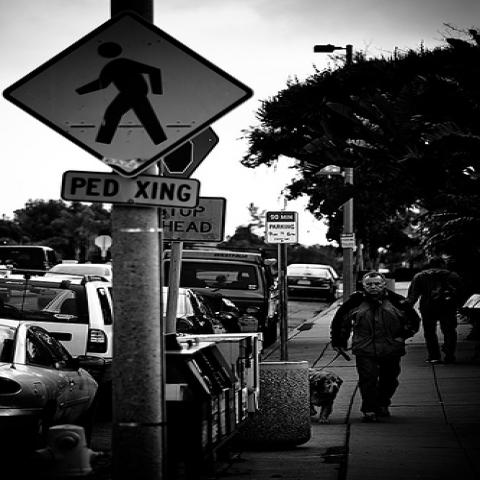car: (0, 319, 110, 456), (1, 268, 115, 362), (160, 285, 217, 334), (286, 264, 340, 300), (0, 245, 57, 269), (47, 263, 114, 279)
truck: (177, 249, 275, 348)
